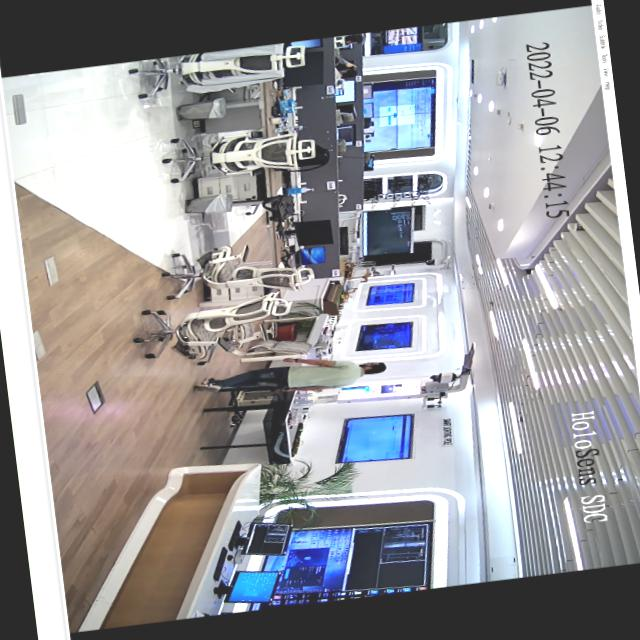long weapon: (216, 379, 292, 402)
